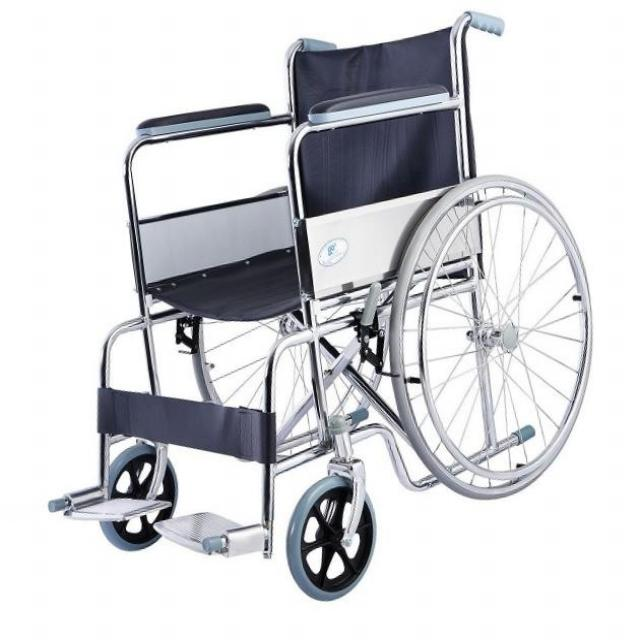wheelchair: (41, 0, 611, 612)
